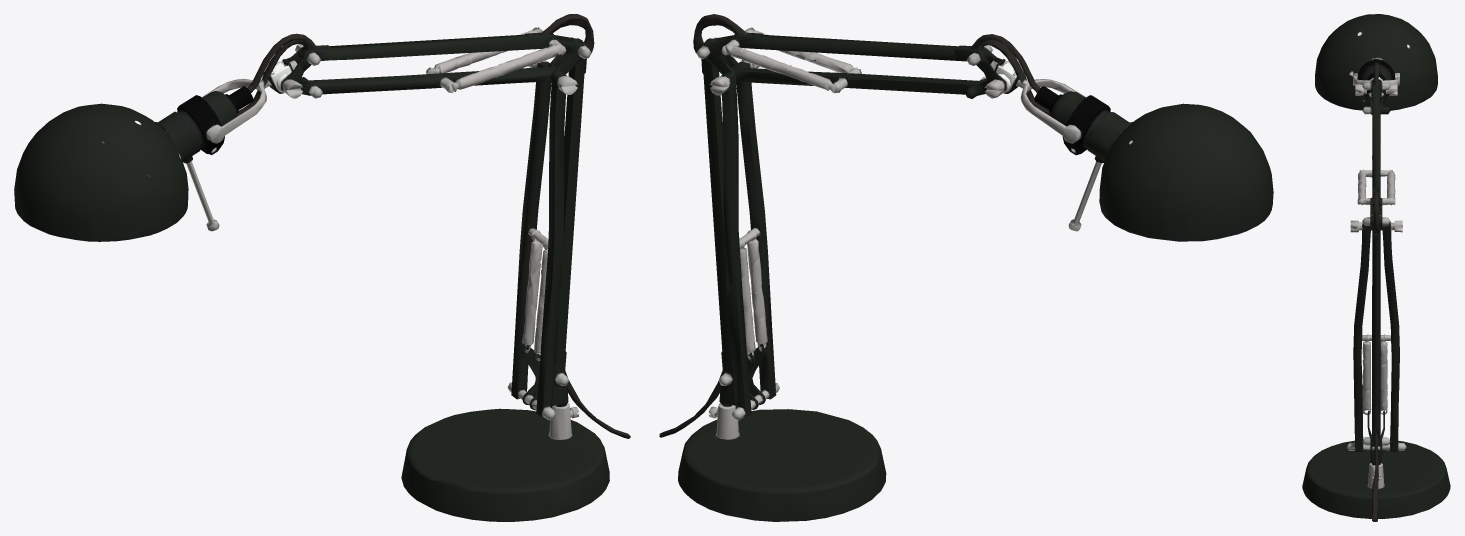
The model's file is ikea_desk_lamp.glb.
3 renders of one model, left to right at view 1: azimuth 30°, elevation 25°; view 2: azimuth 150°, elevation 25°; view 3: azimuth 270°, elevation 25°, orthographic. The views are drawn at different scales.
Visible parts, largest first — view 1: ikea_desk_lamp; view 2: ikea_desk_lamp; view 3: ikea_desk_lamp.
Part boxes in pixels (x1,y1,x2,y2): ikea_desk_lamp: [14, 14, 630, 521]; ikea_desk_lamp: [659, 14, 1273, 521]; ikea_desk_lamp: [1302, 14, 1450, 521].
Bounding box in the file's own units: 0.5058 × 0.3979 × 0.1523.
1 material, 1 textured.
